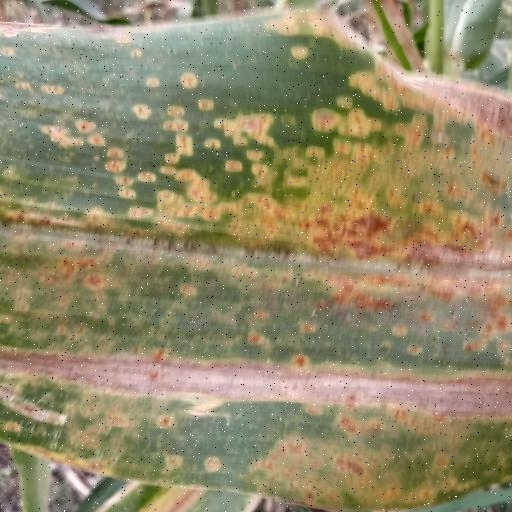Corn_Rust: (0, 2, 512, 512)
